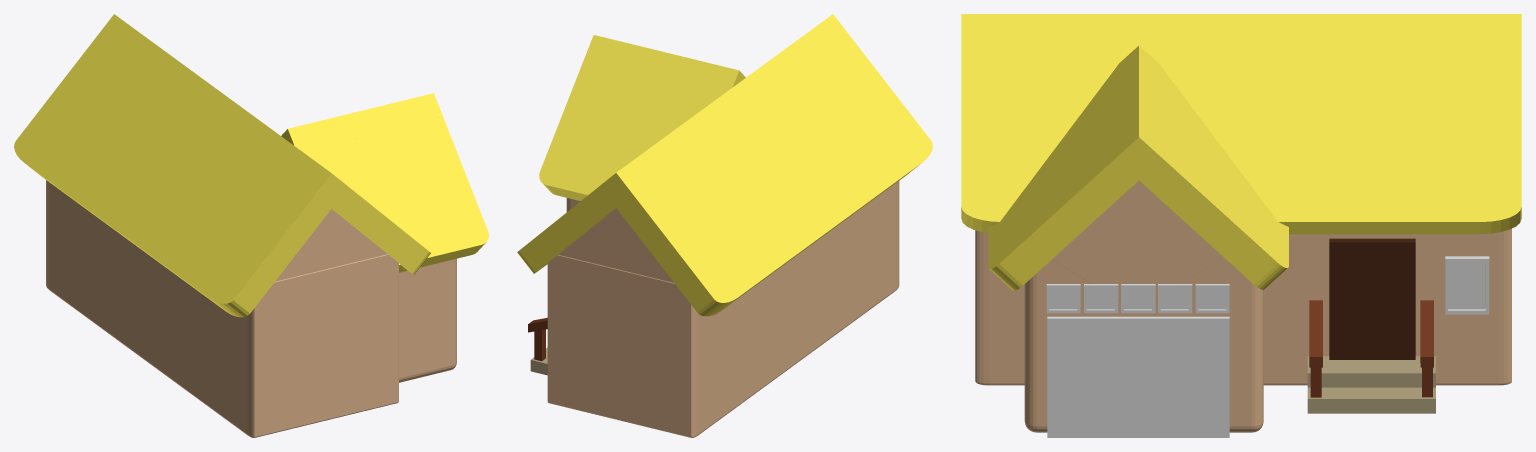
Rendered from yellow house.fbx.
3 renders of one model, left to right at view 1: azimuth 30°, elevation 25°; view 2: azimuth 150°, elevation 25°; view 3: azimuth 270°, elevation 25°, orthographic. The views are drawn at different scales.
Visible parts, largest first — view 1: Cube.009, Cube.010, Cube.011, Cube.008; view 2: Cube.009, Cube.010, Cube.011; view 3: Cube.009, Cube.011, Cube.010, Cube.016, Cube.008, Cube.019, Cube.017, Cube.018, Plane.008, Cube.050, Cube.025, Cube.022 (+5 smaller).
Part boxes in pixels (<box>): Cube.009: <box>14,14,430,317</box>; Cube.010: <box>46,180,398,437</box>; Cube.011: <box>281,93,488,272</box>; Cube.008: <box>399,258,456,382</box>; Cube.009: <box>517,14,932,316</box>; Cube.010: <box>547,181,899,437</box>; Cube.011: <box>539,35,745,200</box>; Cube.009: <box>961,14,1521,234</box>; Cube.011: <box>988,45,1288,290</box>; Cube.010: <box>975,228,1511,385</box>; Cube.016: <box>1047,316,1229,437</box>; Cube.008: <box>1024,180,1263,432</box>; Cube.019: <box>1329,238,1415,359</box>; Cube.017: <box>1307,387,1435,413</box>; Cube.018: <box>1307,356,1435,387</box>; Plane.008: <box>1448,262,1485,309</box>; Cube.050: <box>1445,256,1489,314</box>; Cube.025: <box>1420,300,1433,367</box>; Cube.022: <box>1309,300,1322,367</box>.
Size of the model in its own units: 753 by 658 by 1024.
